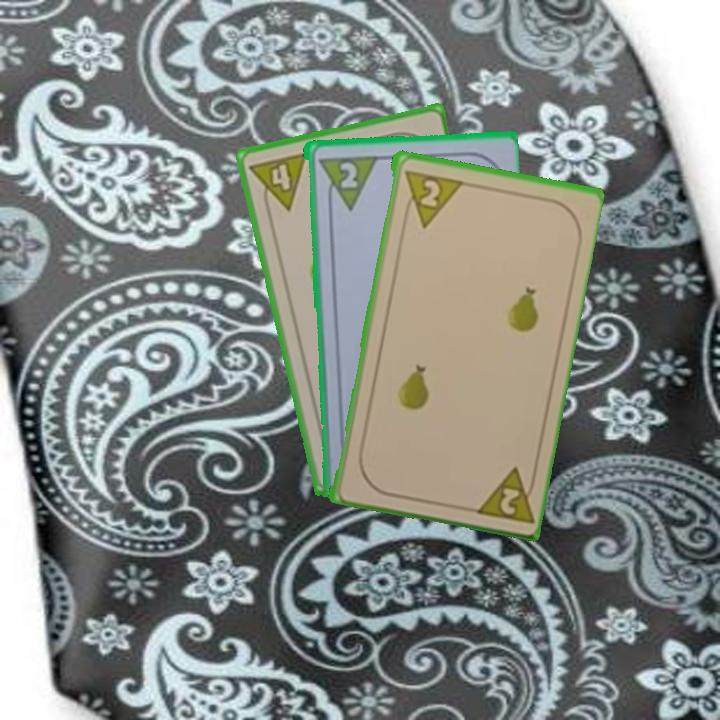2p: (468, 462, 539, 526), (400, 166, 463, 230), (313, 151, 378, 213)
4p: (246, 149, 310, 218)
